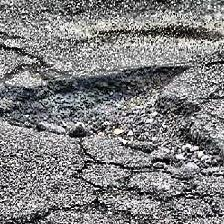pothole: (0, 64, 224, 178)
